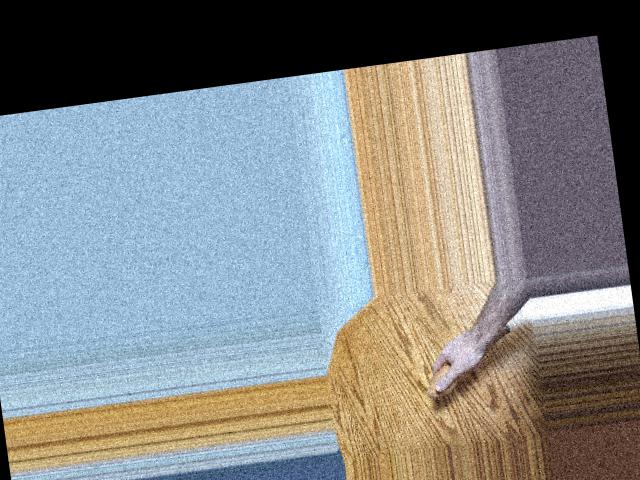sweet_potato: (419, 322, 520, 399)
